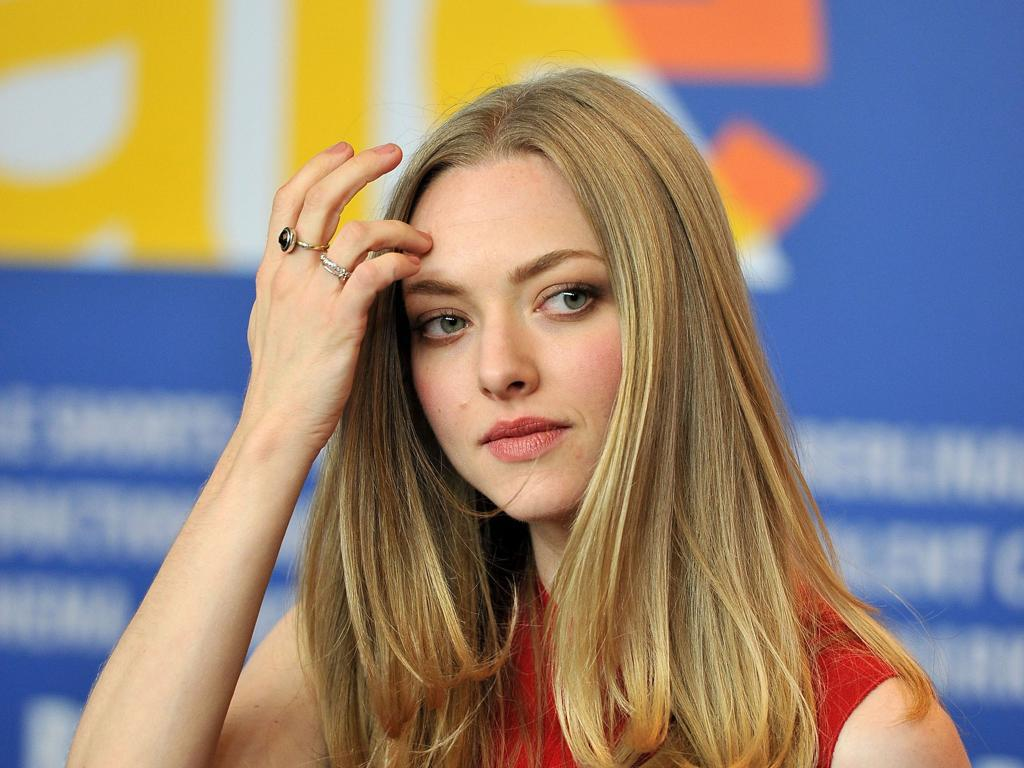face: (399, 157, 655, 521)
